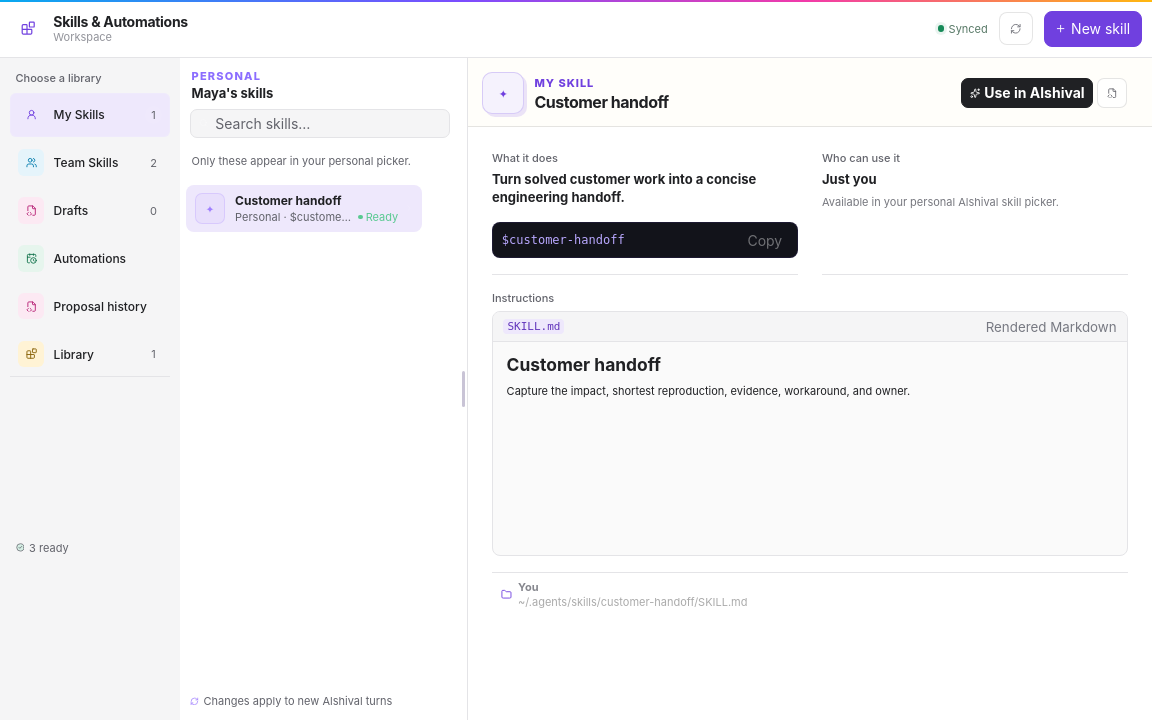
it: Skills app › saves a personal skill immediately without a proposal step
This screenshot has width=1152, height=720.
Click the button "New skill": click(1093, 29) top-left (1044, 11), bottom-right (1142, 47)
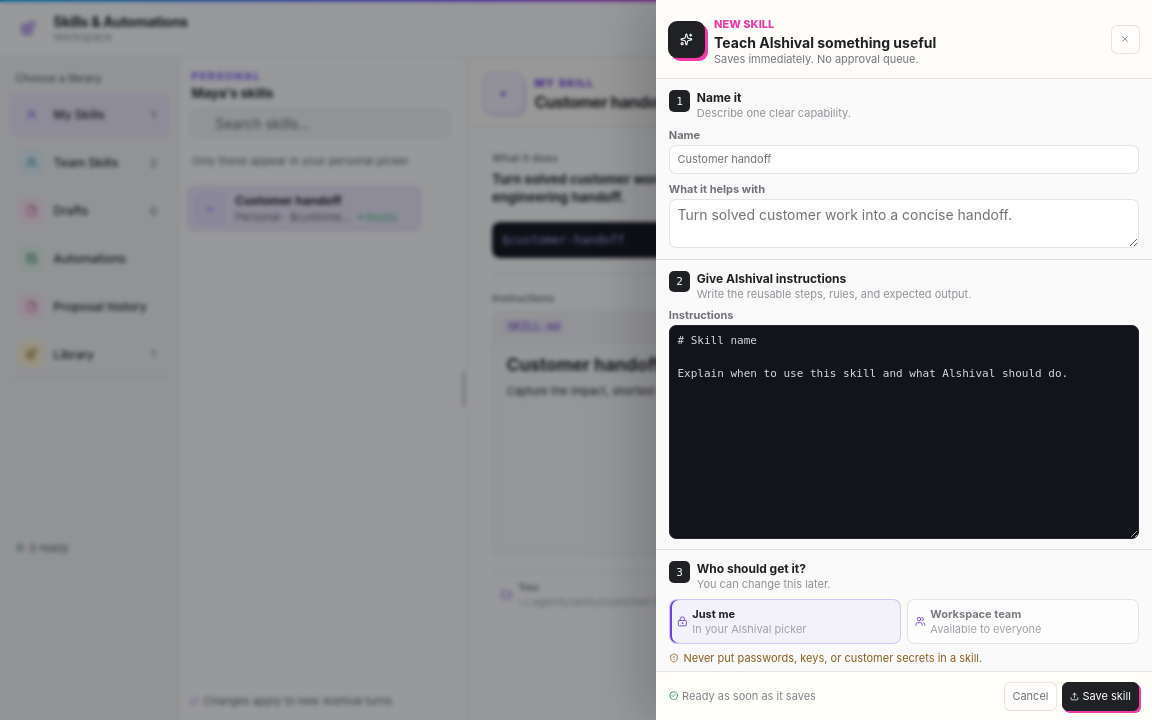
Check: the text "Saves immediately. No approval queue." is shown, box top-left (714, 52), bottom-right (919, 66)
In the field labelled "Name": (904, 159) top-left (669, 145), bottom-right (1139, 174), type "Support escalation"
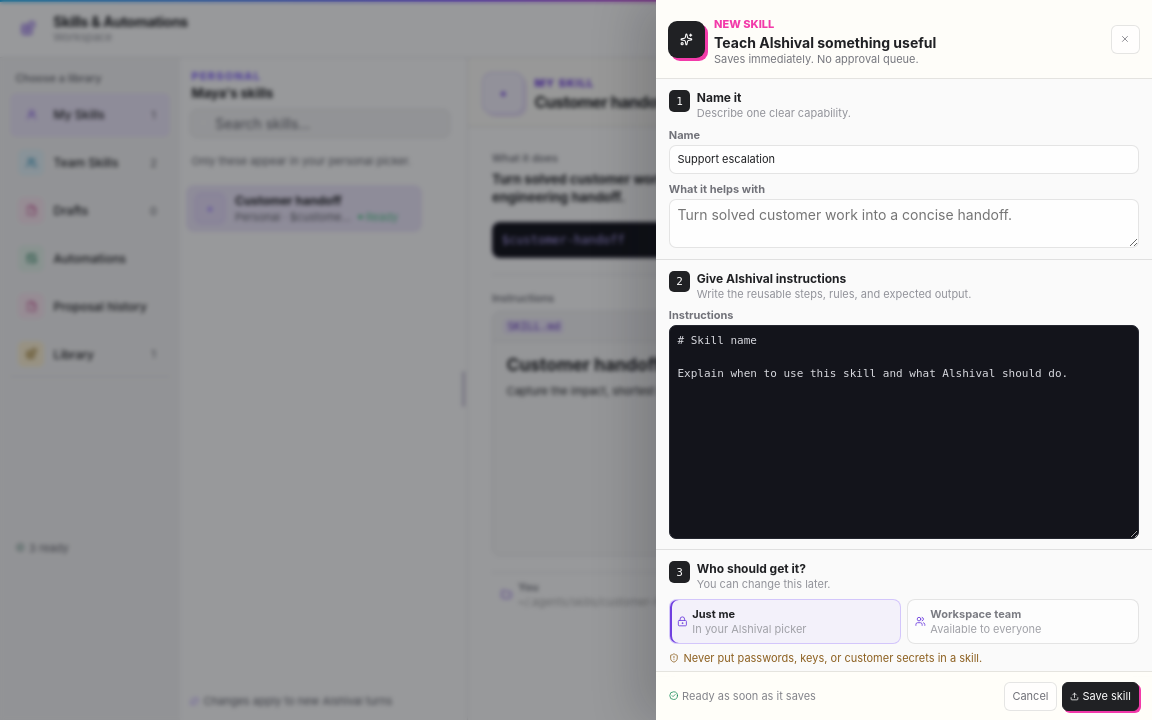
In the text box labelled "What it helps with": (904, 223) top-left (669, 198), bottom-right (1139, 248), type "Prepare a support escalation."
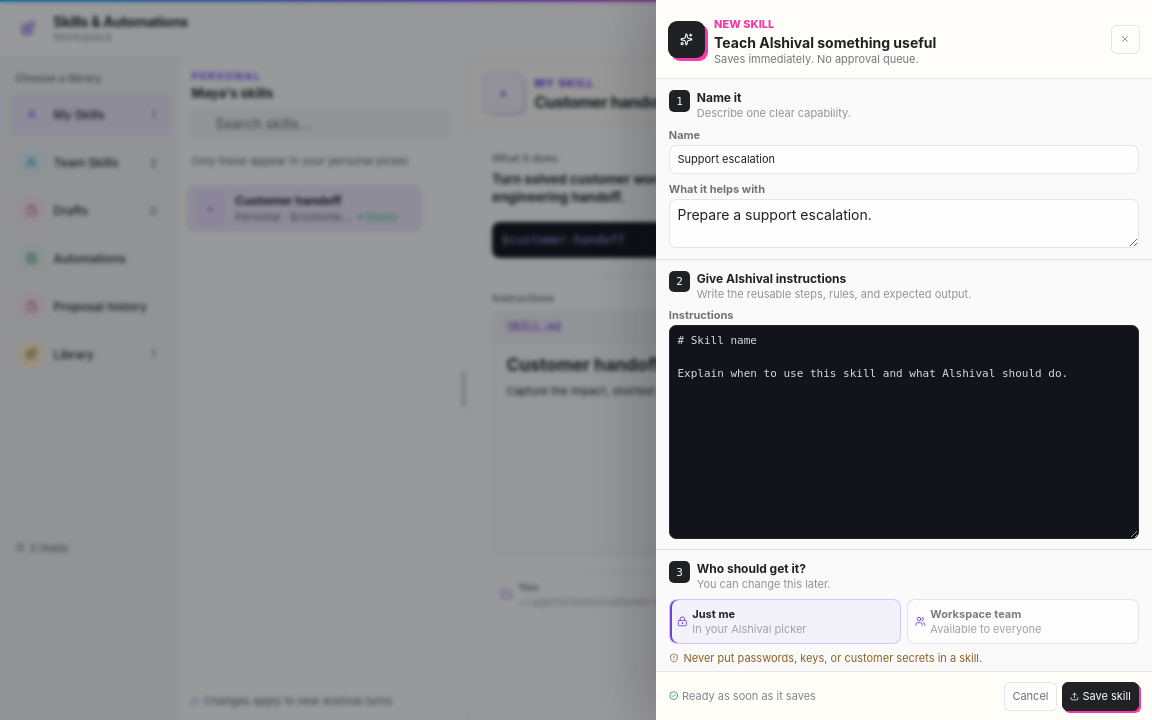
Click the button "Save skill": click(1100, 696) top-left (1062, 682), bottom-right (1139, 710)
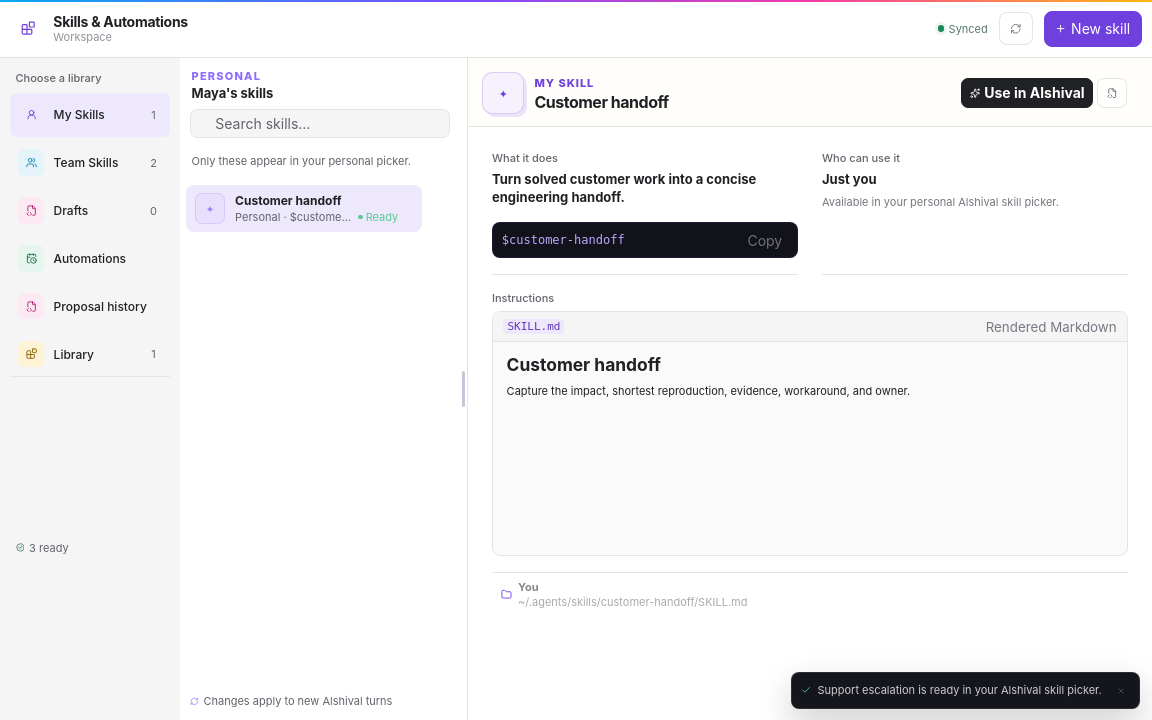
Check: the message shows "ready in your Alshival skill picker", box top-left (818, 683), bottom-right (1102, 697)
